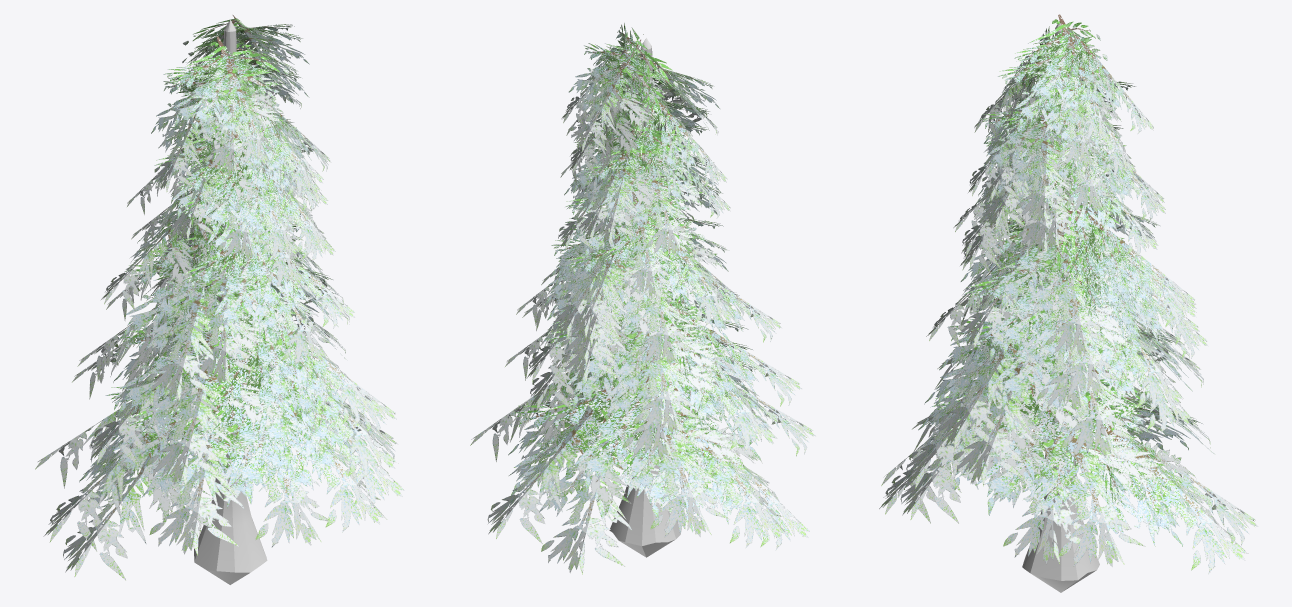
File: TreeAll.fbx
3 views of the same model, side by side, from view 1: azimuth 30°, elevation 25°; view 2: azimuth 150°, elevation 25°; view 3: azimuth 270°, elevation 25° (orthographic). The views are drawn at different scales.
Visible parts, largest first — view 1: Branch2, Branch1, Branch3, TreeRoot; view 2: Branch1, Branch3, Branch2, TreeRoot; view 3: Branch1, Branch2, Branch3, TreeRoot.
Part boxes in pixels (left/top/right/bottom): Branch2: left=90, top=51, right=404, bottom=555; Branch1: left=72, top=15, right=381, bottom=547; Branch3: left=35, top=37, right=397, bottom=580; TreeRoot: left=194, top=478, right=267, bottom=584; Branch1: left=487, top=23, right=772, bottom=543; Branch3: left=506, top=45, right=809, bottom=549; Branch2: left=470, top=63, right=815, bottom=574; TreeRoot: left=609, top=462, right=681, bottom=557; Branch1: left=881, top=14, right=1248, bottom=573; Branch2: left=879, top=47, right=1258, bottom=566; Branch3: left=930, top=34, right=1214, bottom=564; TreeRoot: left=1022, top=486, right=1099, bottom=592.
Size of the model in its own units: 6.91 by 10.3 by 6.72.
